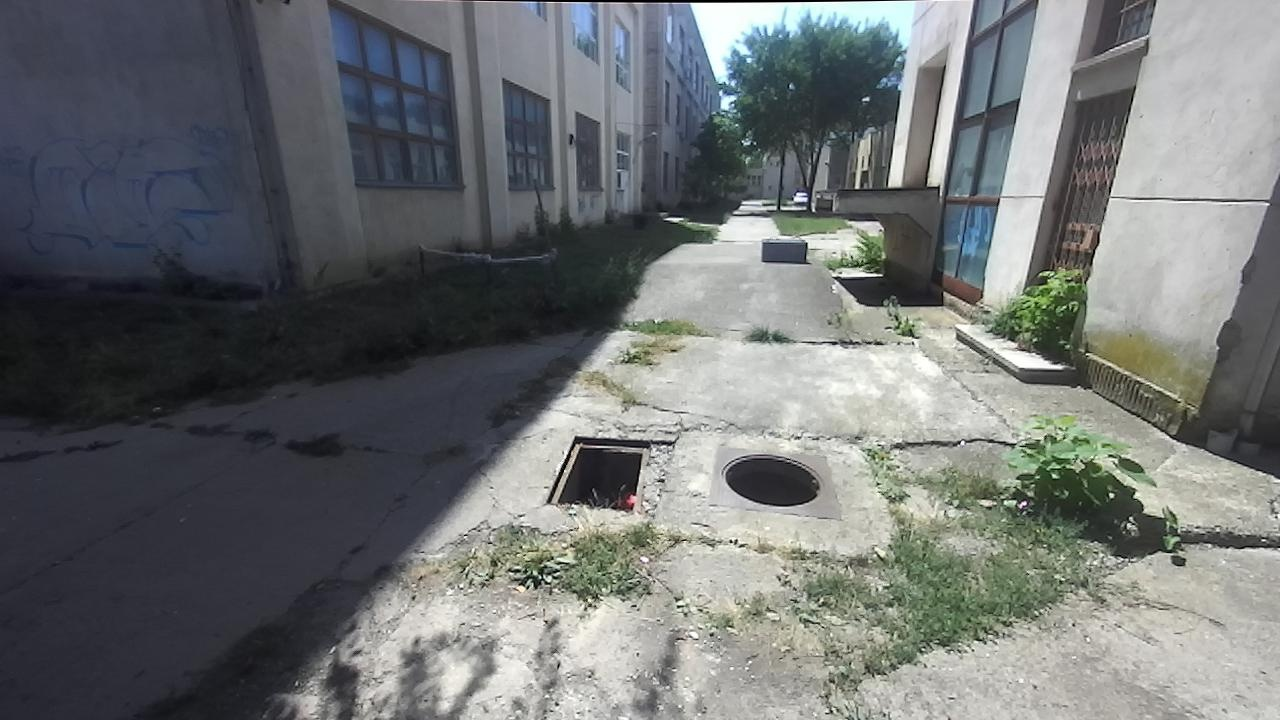drain: (538, 433, 653, 519), (709, 450, 828, 510)
